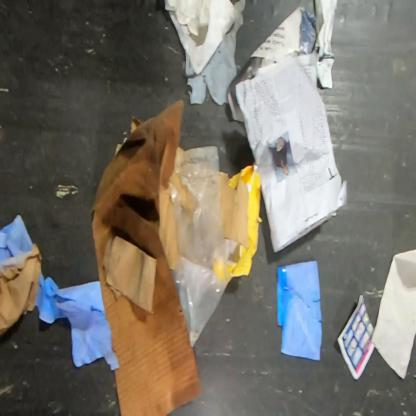cardboard: (94, 97, 204, 415), (0, 243, 42, 336), (219, 172, 249, 250)
soft_plastic: (167, 147, 230, 353)
